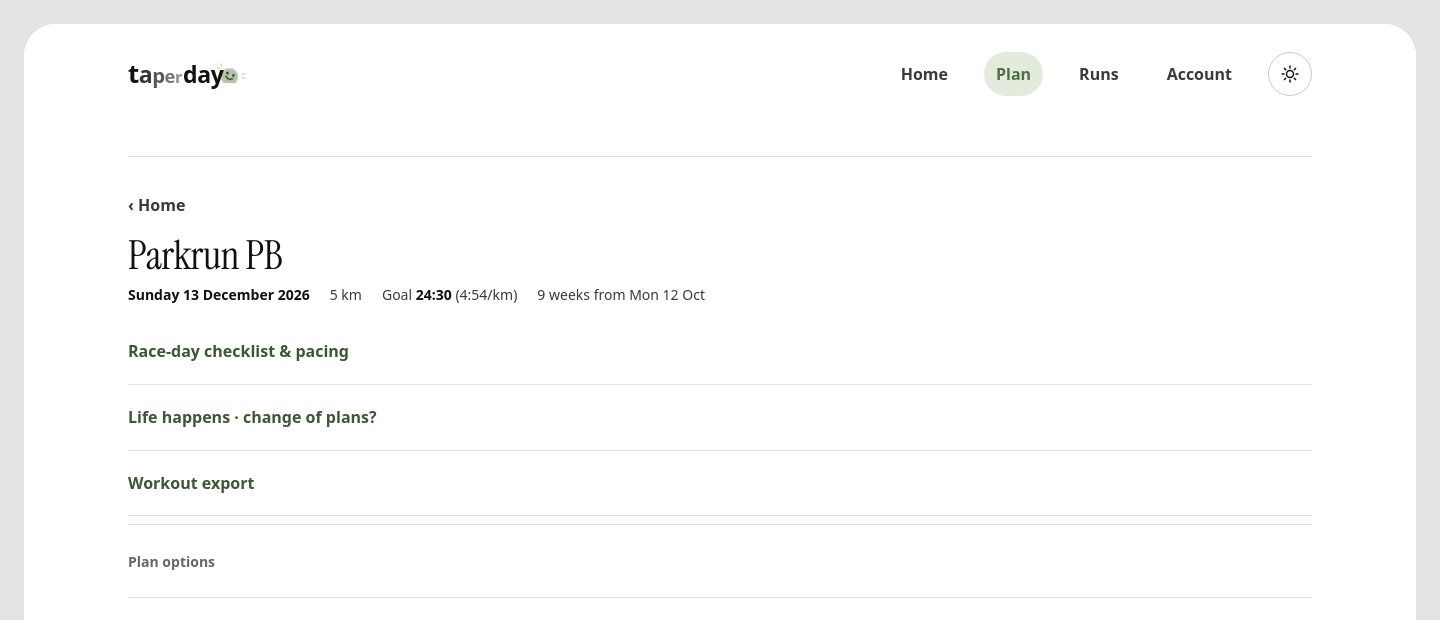
Test: a signed-up runner › goes Home from the Taperday wordmark, even from a half-finished change of answers
Click the heading "Plan options" at (172, 561), box [128,552,215,570]
(page scrolled)
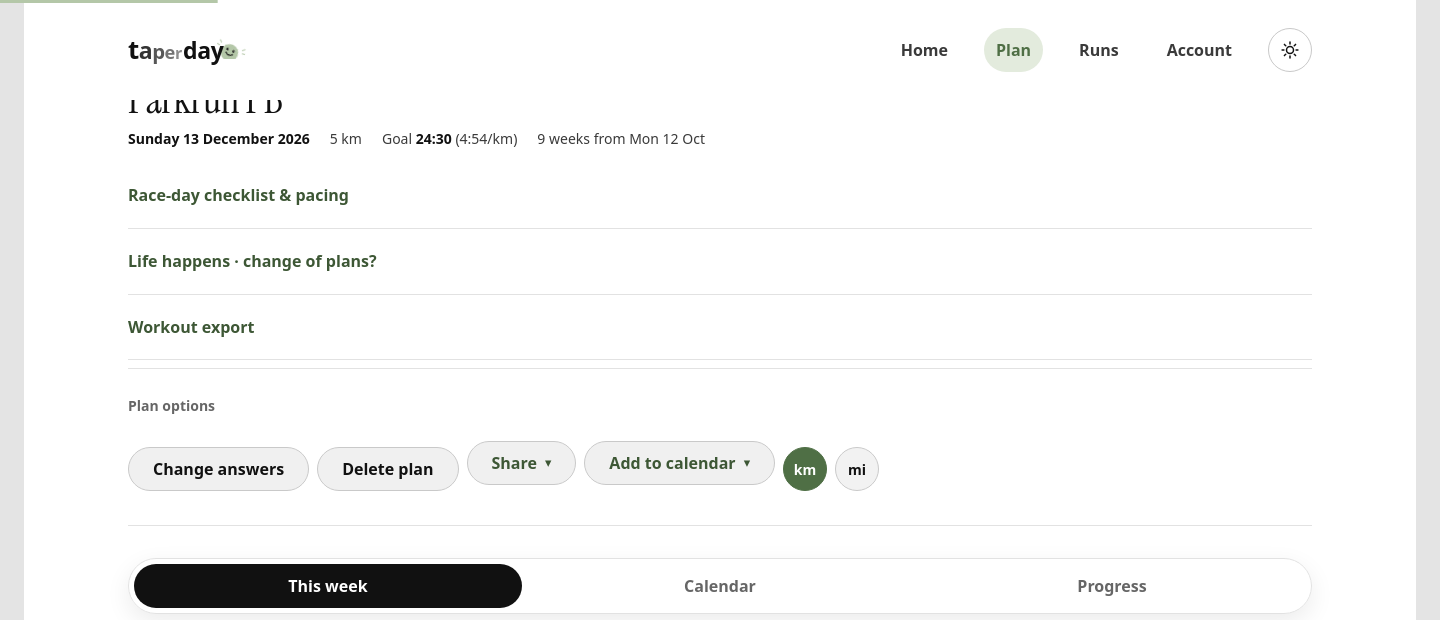
Click the button "Change answers" at (219, 469), box [128,447,309,491]
(page scrolled)
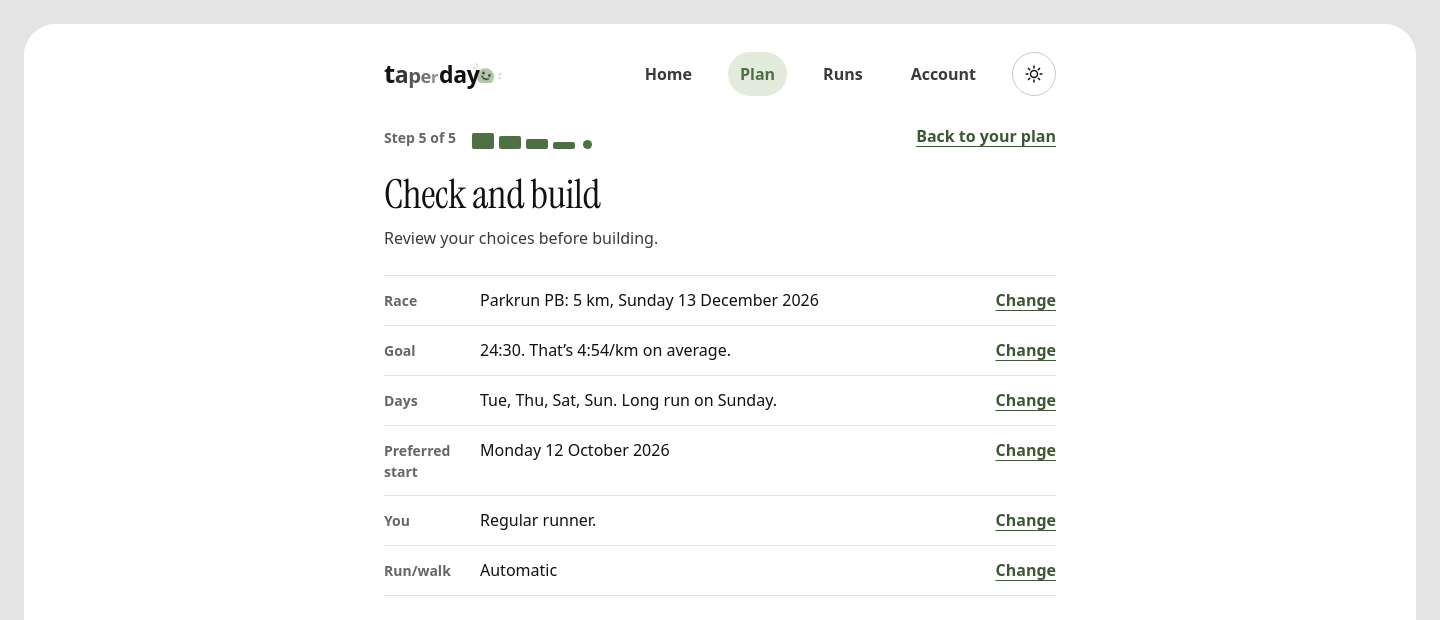
Click the button named "Taperday" at (443, 74), box [384,52,501,96]
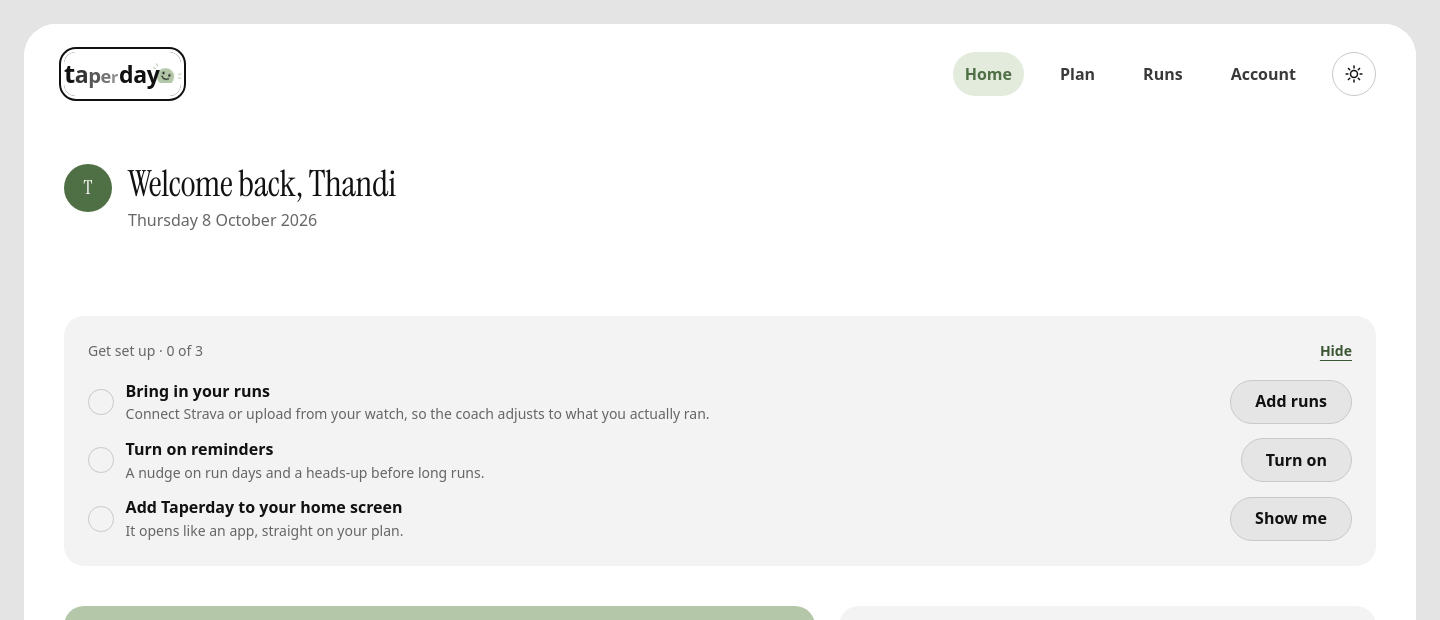
Expected: the heading "Welcome back, Thandi" is shown, [128,164,396,204]
Click the button "Runs" at (1163, 74), box [1131,52,1195,96]
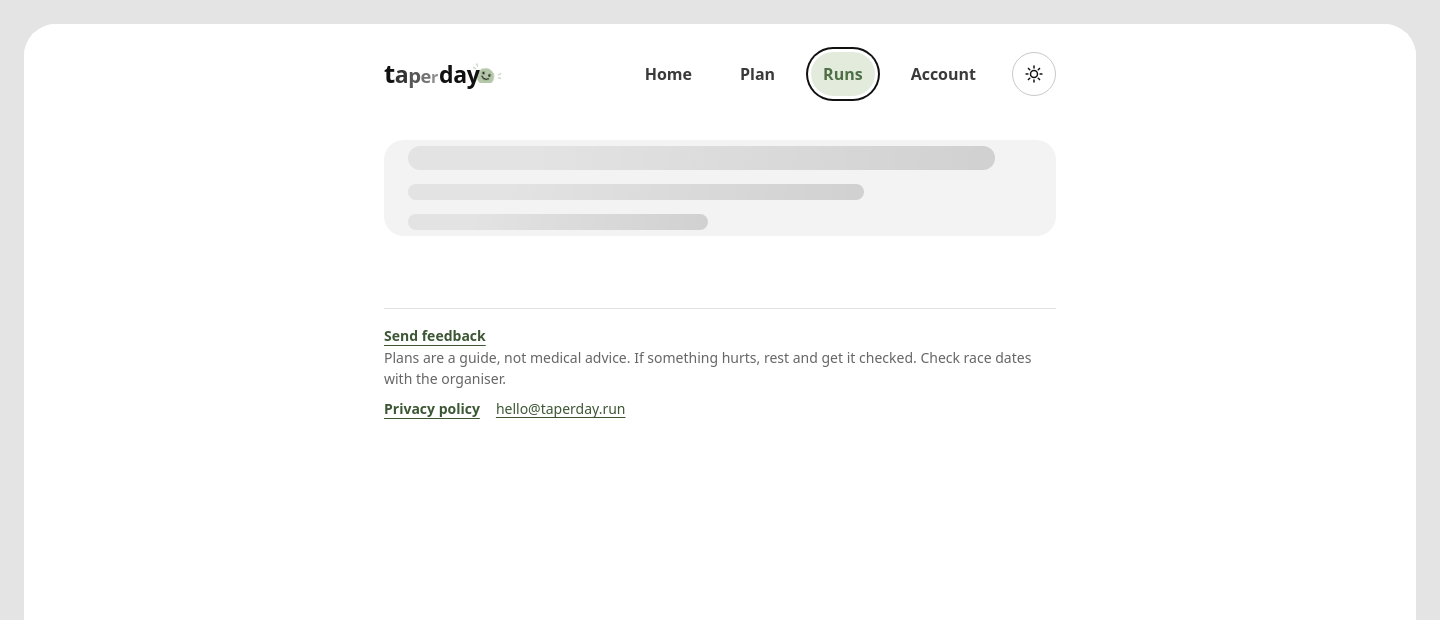
Click the button named "Taperday" at (443, 74), box [384,52,501,96]
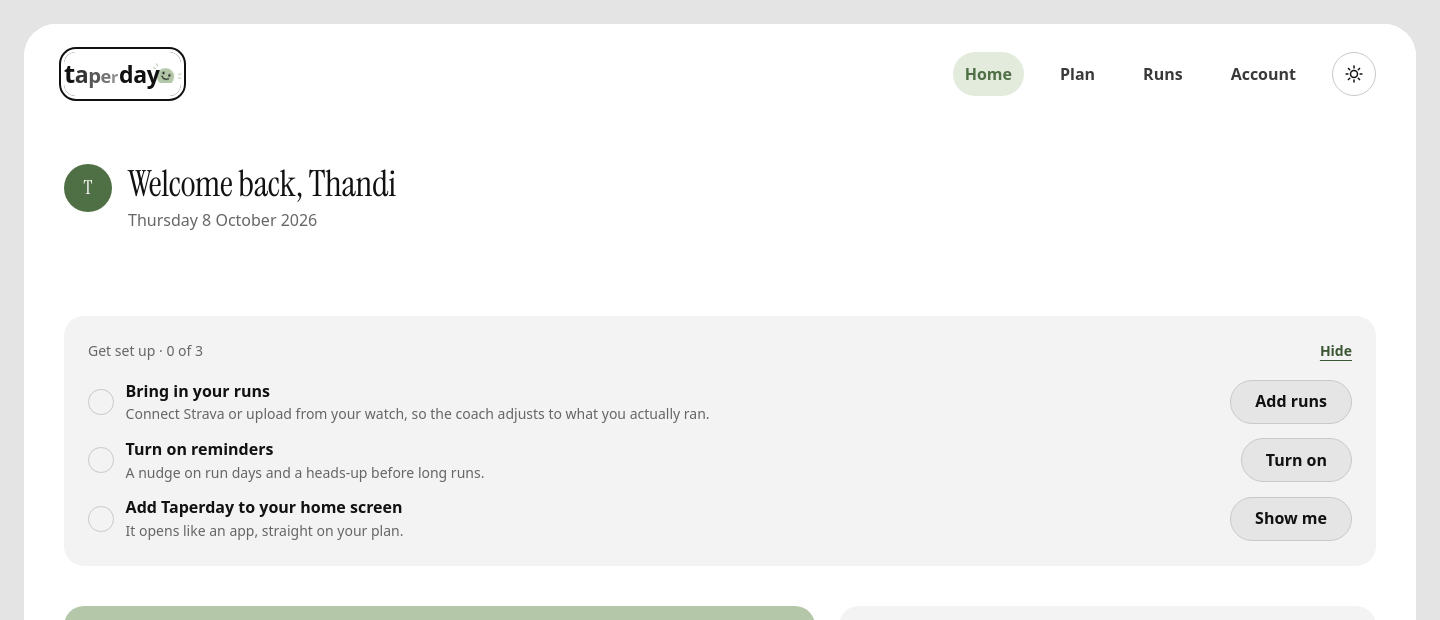
Expected: the heading "Welcome back, Thandi" is shown, [128,164,396,204]
